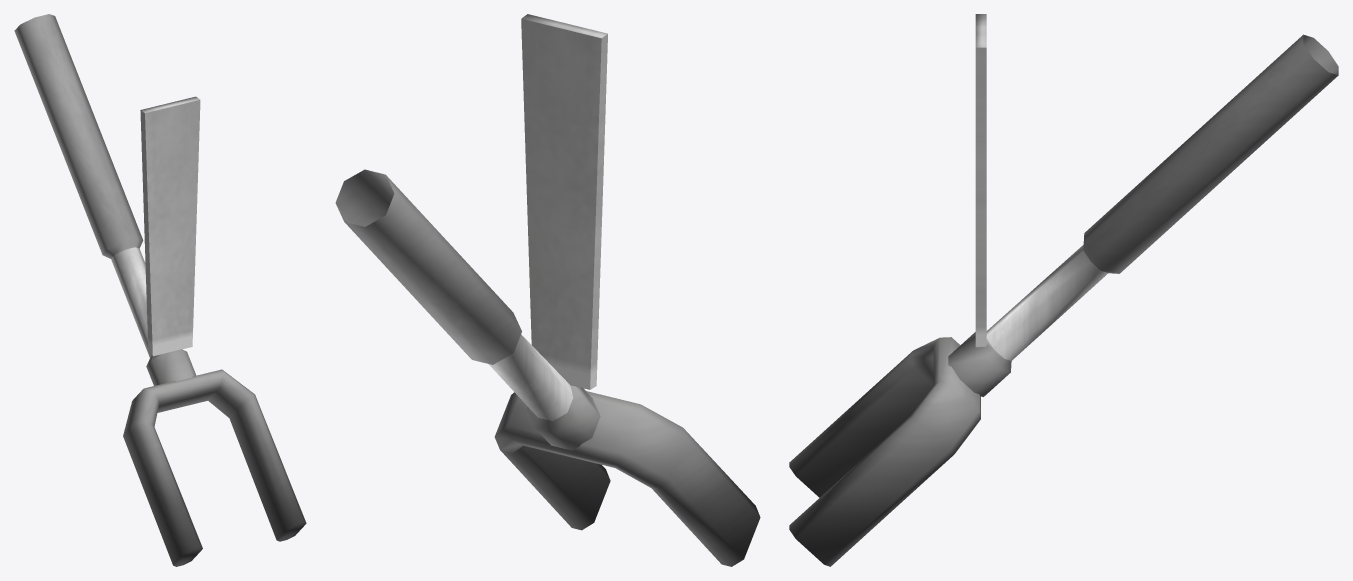
The model's file is NoseGearFrame.fbx.
The picture shows the model from 3 angles, left to right: view 1: azimuth 30°, elevation 25°; view 2: azimuth 150°, elevation 25°; view 3: azimuth 270°, elevation 25°; orthographic projection. The views are drawn at different scales.
Visible parts, largest first — view 1: NoseGearFrame; view 2: NoseGearFrame; view 3: NoseGearFrame.
Boxes of the visible parts, x1,y1,x2,y2 form: NoseGearFrame: [14, 14, 306, 566]; NoseGearFrame: [335, 14, 760, 566]; NoseGearFrame: [789, 14, 1338, 566].
Size of the model in its own units: 9.71 by 30.73 by 30.46.
